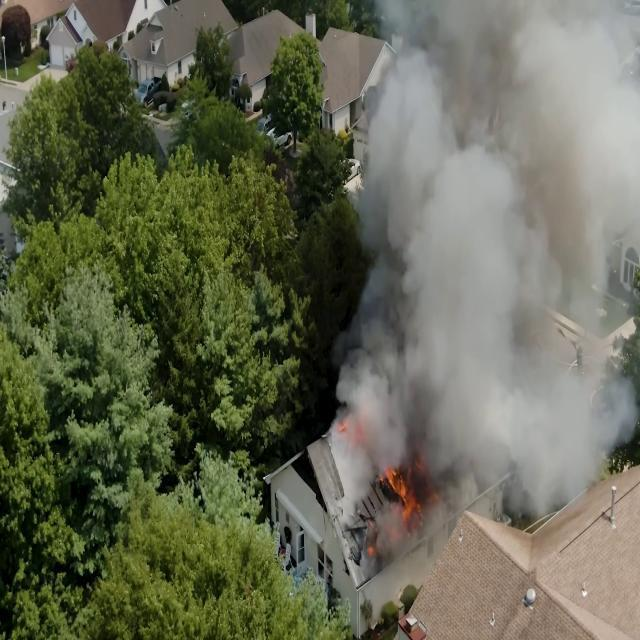Smoke: (466, 7, 614, 246), (378, 200, 535, 386), (392, 380, 534, 483)
